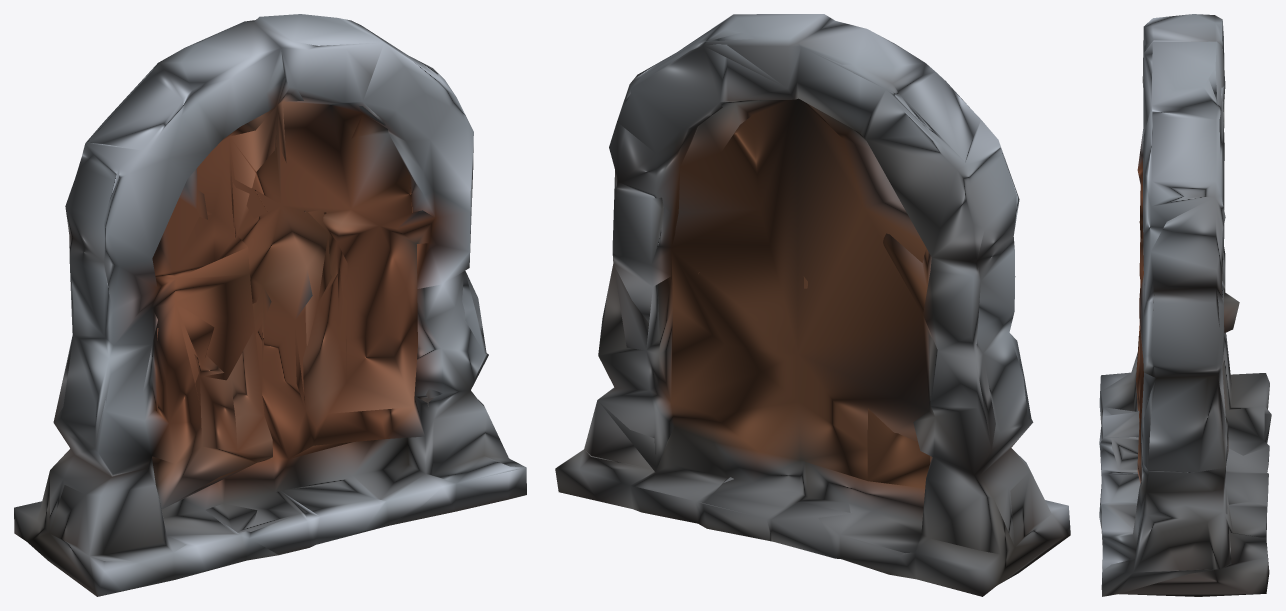
File: gen3d-cellar-door-lod0.glb
3 views of the same model, side by side, from view 1: azimuth 30°, elevation 25°; view 2: azimuth 150°, elevation 25°; view 3: azimuth 270°, elevation 25° (orthographic). The views are drawn at different scales.
Visible parts, largest first — view 1: part_0; view 2: part_0; view 3: part_0.
Boxes of the visible parts, <box> form: part_0: <box>14,14,526,596</box>; part_0: <box>555,14,1070,596</box>; part_0: <box>1099,14,1271,596</box>.
Size of the model in its own units: 0.9209 by 0.9944 by 0.3383.
